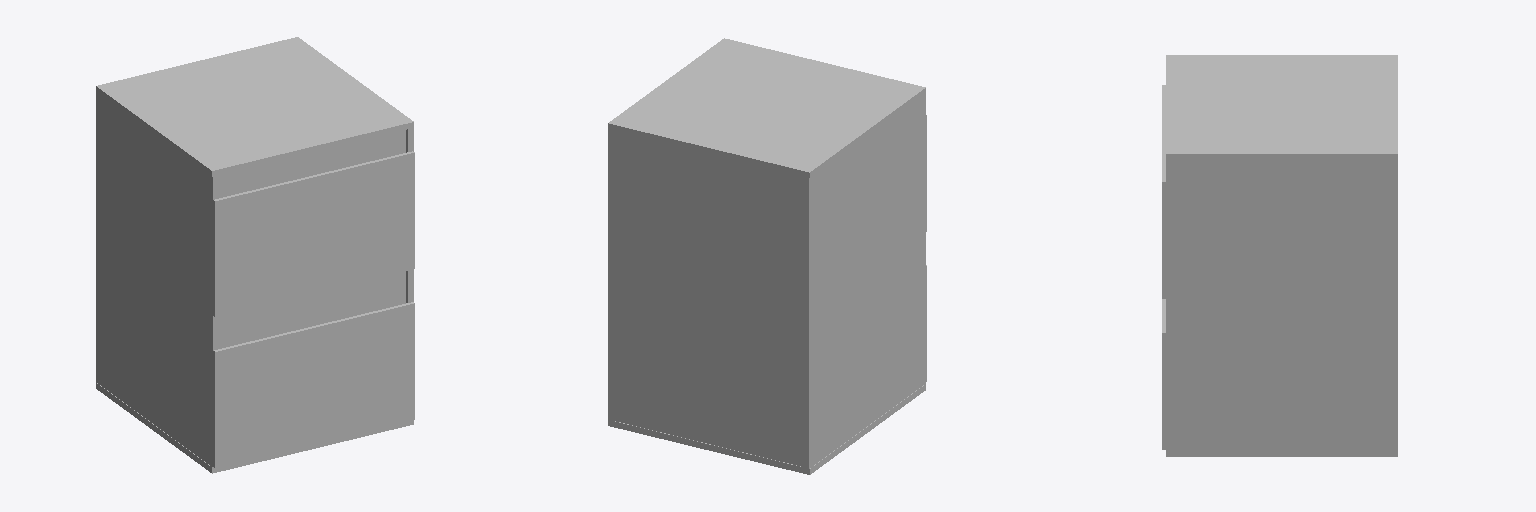
Rendered from РОКС.obj.
The picture shows the model from 3 angles: view 1: azimuth 30°, elevation 25°; view 2: azimuth 150°, elevation 25°; view 3: azimuth 270°, elevation 25°; orthographic projection.
Visible parts, largest first — view 1: Cube.003_Cube.005, Cube.007_Cube.009; view 2: Cube.003_Cube.005; view 3: Cube.003_Cube.005, Cube.007_Cube.009.
Boxes of the visible parts, x1,y1,x2,y2 form: Cube.003_Cube.005: [96, 37, 413, 473]; Cube.007_Cube.009: [213, 151, 414, 468]; Cube.003_Cube.005: [608, 38, 925, 474]; Cube.003_Cube.005: [1166, 55, 1397, 456]; Cube.007_Cube.009: [1162, 85, 1165, 449].
Bounding box in the file's own units: 0.8045 × 1.15 × 0.8162.